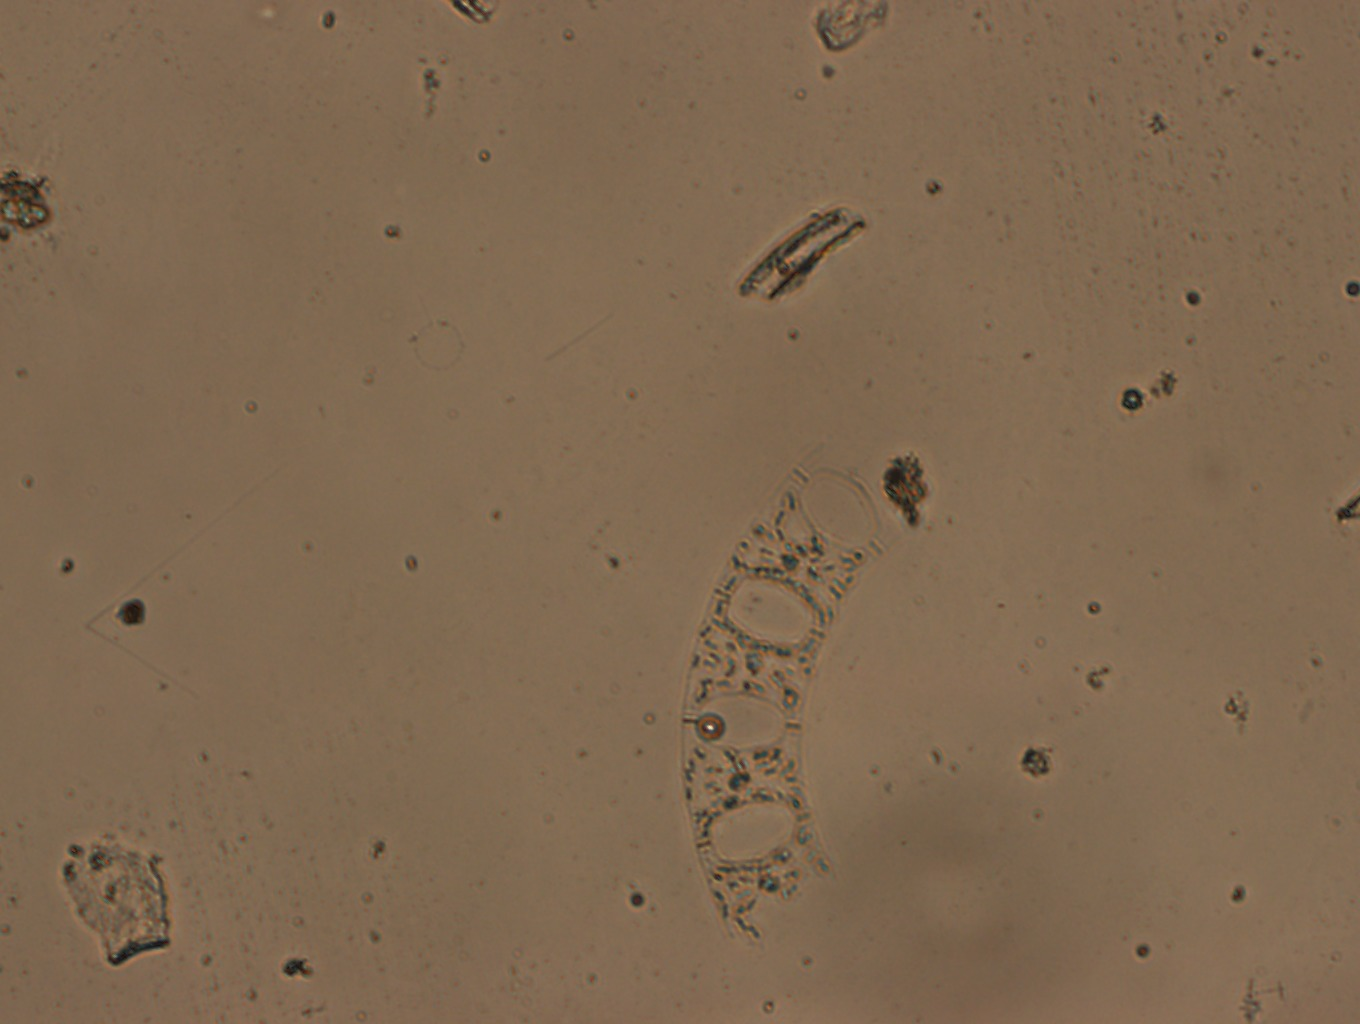eucampia: (681, 441, 907, 945)
